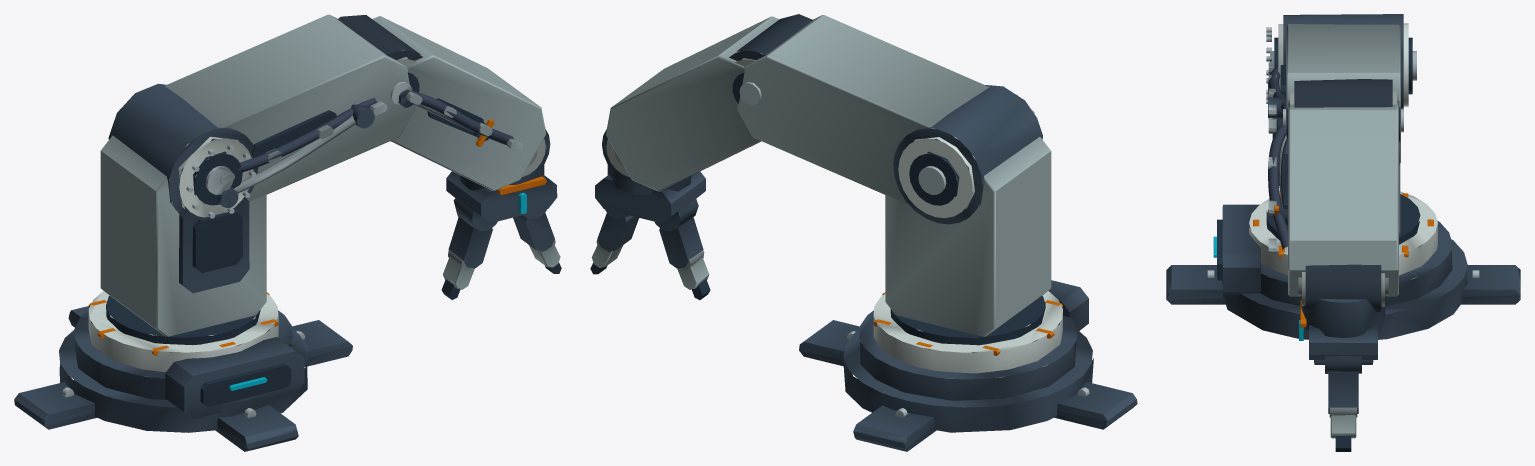
Rendered from robot-soudeur.glb.
3 renders of one model, left to right at view 1: azimuth 30°, elevation 25°; view 2: azimuth 150°, elevation 25°; view 3: azimuth 270°, elevation 25°, orthographic.
Visible parts, largest first — view 1: corps__gris_clair3, corps__bleu_nuit2, corps__bleu_nuit, corps__gris_clair2, corps__gris_clair, corps__bleu_nuit3, corps__lum_orange; view 2: corps__gris_clair3, corps__bleu_nuit2, corps__gris_clair2, corps__bleu_nuit, corps__gris_clair; view 3: corps__bleu_nuit2, corps__gris_clair3, corps__gris_clair2, corps__bleu_nuit, corps__gris_clair, corps__bleu_nuit3, corps__lum_orange.
Part boxes in pixels (x1,y1,x2,y2): corps__gris_clair3: (100,14,560,336); corps__bleu_nuit2: (14,15,557,451); corps__bleu_nuit: (106,72,561,407); corps__gris_clair2: (88,57,545,377); corps__gris_clair: (62,82,555,417); corps__bleu_nuit3: (237,90,513,172); corps__lum_orange: (88,119,546,355); corps__gris_clair3: (591,15,1051,337); corps__bleu_nuit2: (595,14,1137,451); corps__gris_clair2: (606,53,1062,378); corps__bleu_nuit: (590,73,1045,406); corps__gris_clair: (596,82,1089,417); corps__bleu_nuit2: (1166,14,1520,413); corps__gris_clair3: (1286,24,1400,438); corps__gris_clair2: (1249,23,1437,306); corps__bleu_nuit: (1217,37,1420,451); corps__gris_clair: (1207,27,1479,417); corps__bleu_nuit3: (1268,67,1287,249); corps__lum_orange: (1253,193,1433,327).
Size of the model in its own units: 3.62 by 2 by 2.12.
